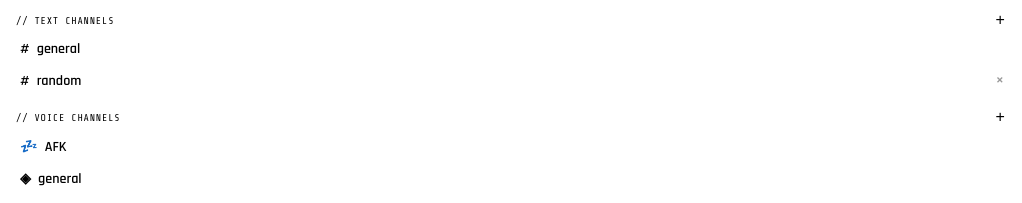
ChannelList › shows context menu on right click
Right-click the text "random" at (59,81), box [37,72,81,90]
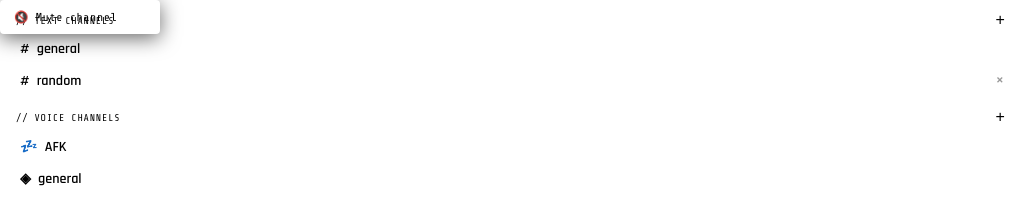
Expected: the button "🔇 Mute channel" is shown, [4,4,156,30]
